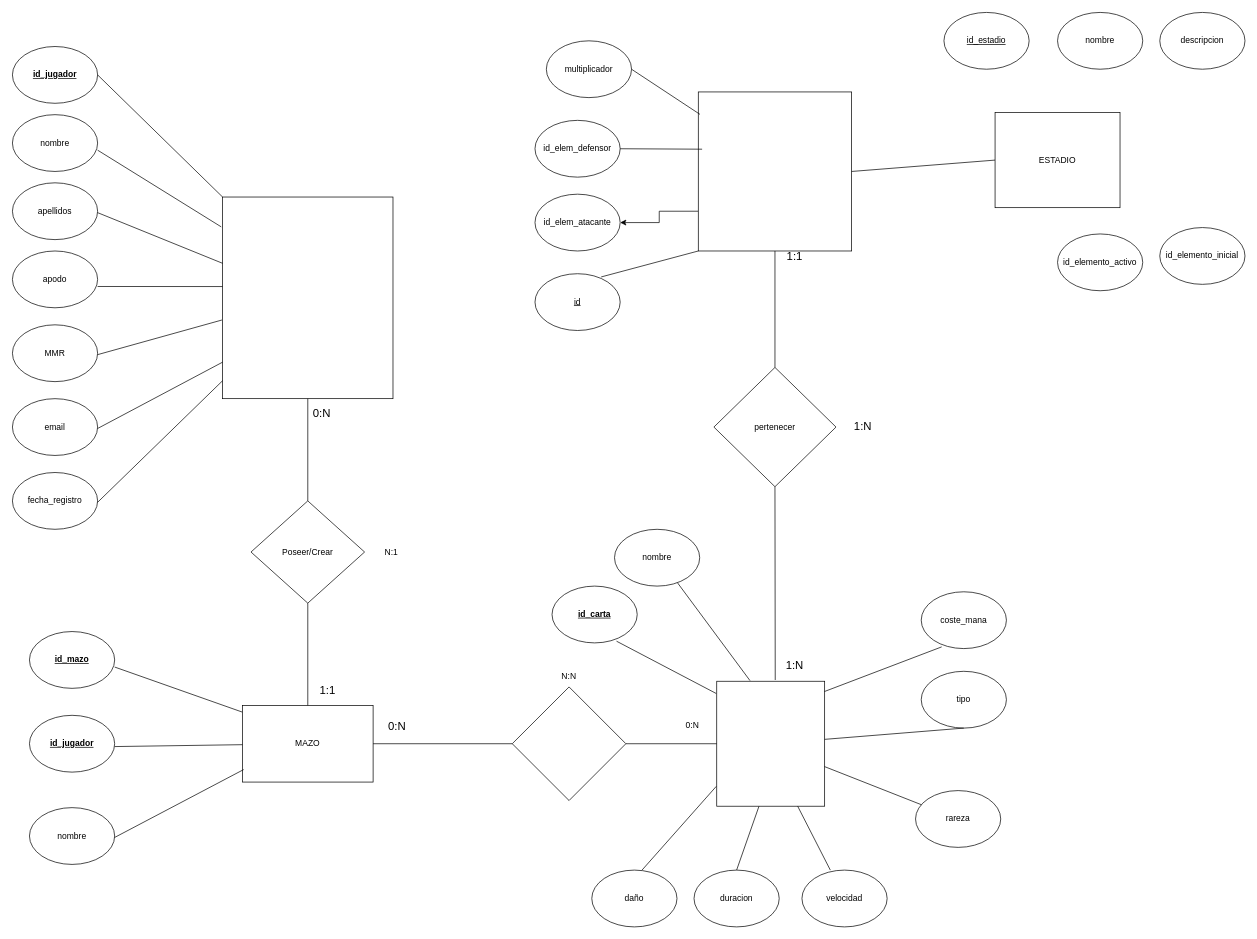
Some shapes in this 1257 by 939 pixel diagram are drawn without their labels. Here are the shapes that lost their labels. From the top down, the centre of each, then its label:
At point 775,171: "ELEMENTO".
At point 307,297: "Jugador".
At point 569,743: "Tener/Inventario".
At point 770,743: "CARTA".
